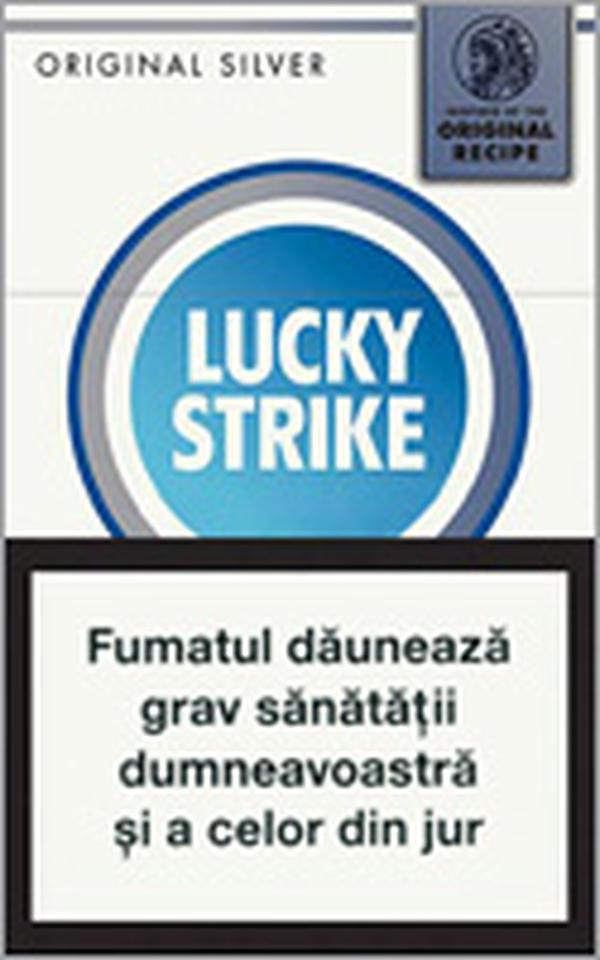lucky_strike_blue: (1, 1, 595, 960)
